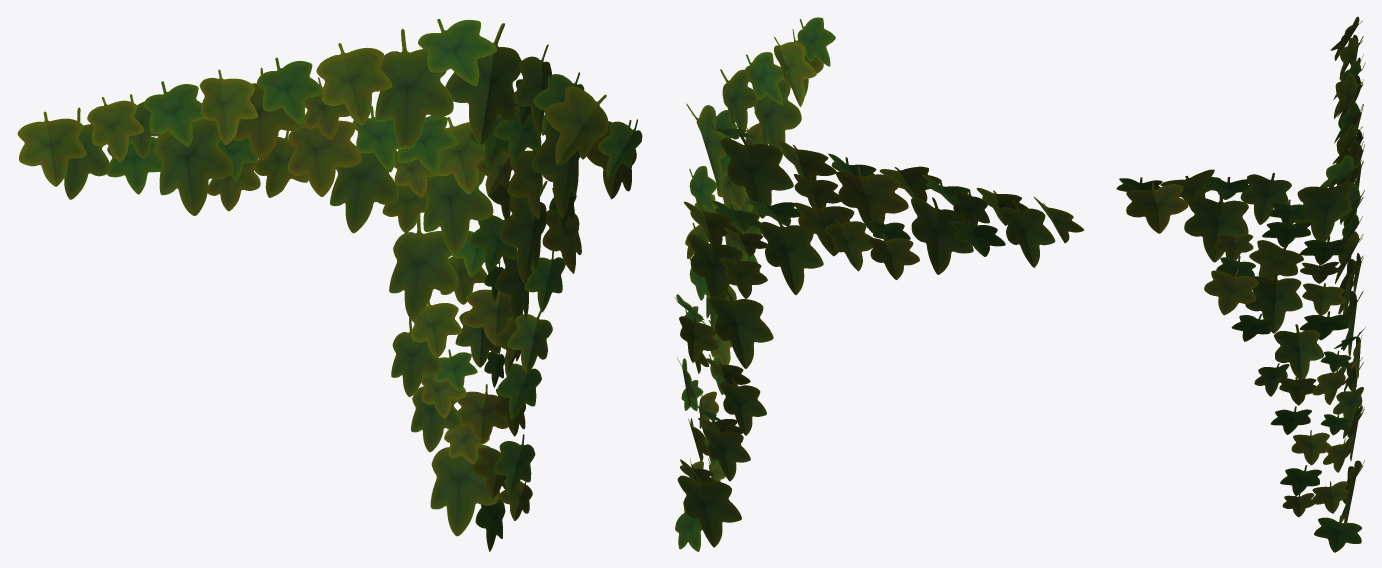
Rendered from ivy_r_01a.fbx.
3 renders of one model, left to right at view 1: azimuth 30°, elevation 25°; view 2: azimuth 150°, elevation 25°; view 3: azimuth 270°, elevation 25°, orthographic. The views are drawn at different scales.
Parts seen in each view (by area): view 1: ivy_r_01a; view 2: ivy_r_01a; view 3: ivy_r_01a.
Boxes of the visible parts, x1,y1,x2,y2 form: ivy_r_01a: (17,19,642,551); ivy_r_01a: (674,17,1084,551); ivy_r_01a: (1116,16,1365,552).
Size of the model in its own units: 109 by 67.1 by 114.
Materials: 1 (1 with a texture image).
